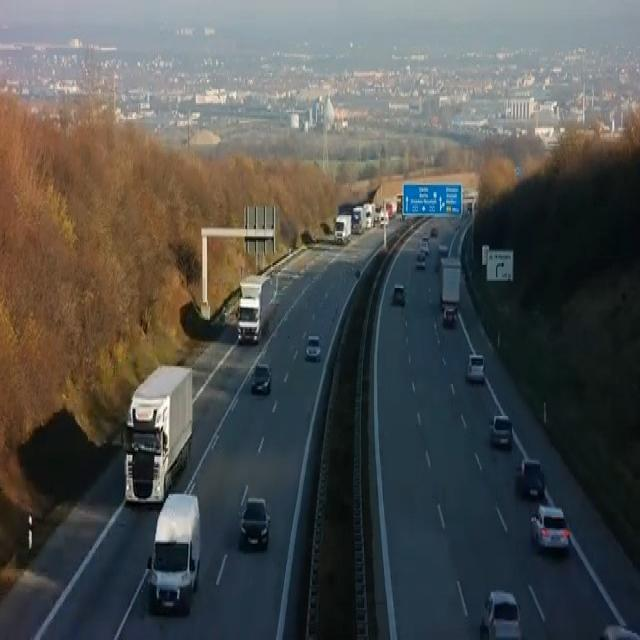car: (480, 588, 522, 638), (530, 503, 570, 553), (240, 496, 270, 549), (520, 457, 544, 498), (488, 414, 513, 448), (250, 362, 271, 394), (465, 352, 485, 382), (598, 624, 639, 638), (305, 334, 321, 361), (442, 304, 456, 325), (393, 282, 405, 306), (300, 230, 317, 243), (416, 252, 425, 268), (430, 226, 438, 236)
truck: (121, 363, 193, 505), (146, 492, 200, 614), (236, 279, 261, 343), (439, 256, 461, 325), (334, 214, 351, 244)
